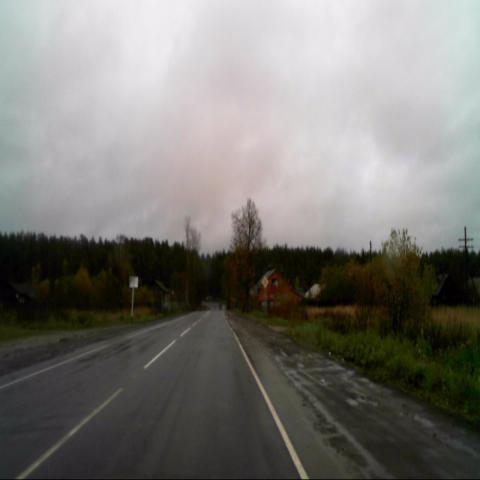2_1: (261, 275, 269, 288)
